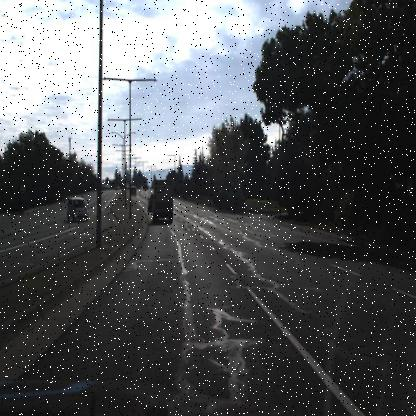car: (65, 196, 89, 222), (145, 190, 154, 215), (147, 192, 156, 213), (130, 186, 138, 197)
truck: (152, 177, 175, 224)
